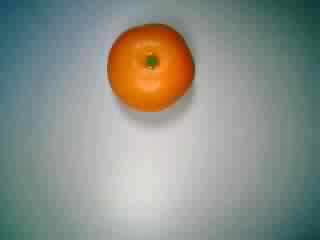orange: (106, 19, 202, 115)
